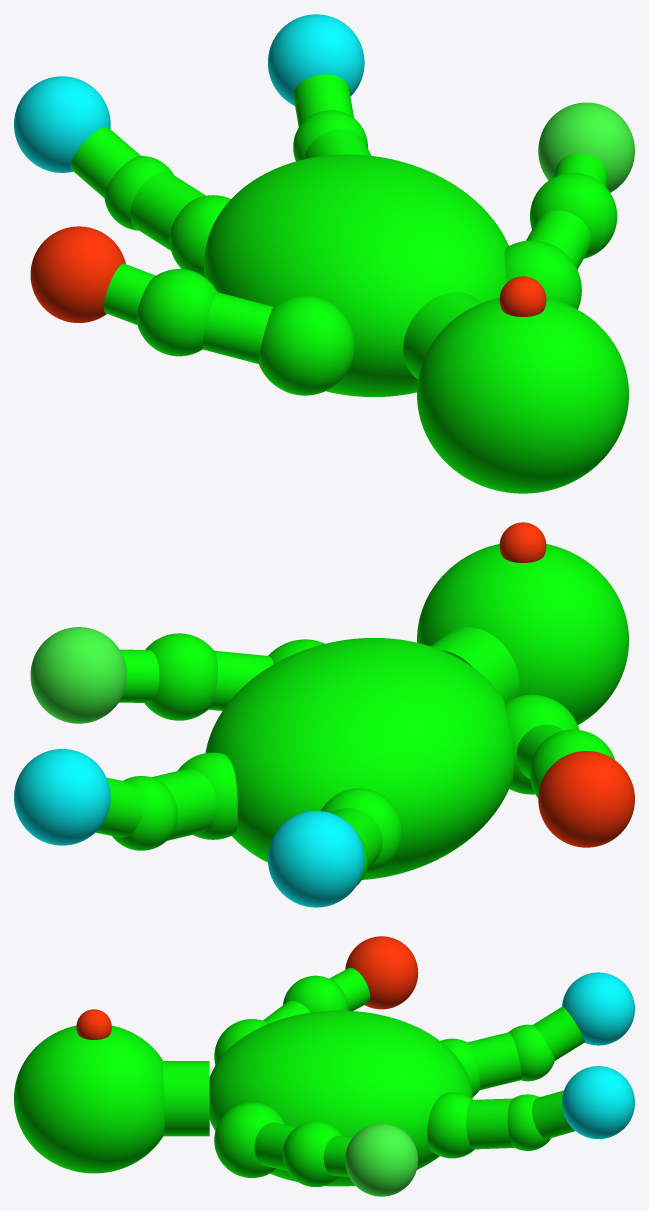
Rendered from maennchen_linke_hand_rot.glb.
The picture shows the model from 3 angles, top to bottom: view 1: azimuth 30°, elevation 25°; view 2: azimuth 150°, elevation 25°; view 3: azimuth 270°, elevation 25°; orthographic projection. The views are drawn at different scales.
Parts seen in each view (by area): view 1: torso_round_green, head_round_green, left_shoulder, left_hand_red_sphere, left_foot_cyan_sphere, right_foot_cyan_sphere, right_hand_green_sphere, left_elbow, right_elbow, left_upper_arm, right_shoulder, left_thigh (+11 smaller); view 2: torso_round_green, head_round_green, right_foot_cyan_sphere, left_hand_red_sphere, left_foot_cyan_sphere, right_hand_green_sphere, right_elbow, neck_green, left_shoulder, right_thigh, right_knee, right_hip (+9 smaller); view 3: torso_round_green, head_round_green, right_hand_green_sphere, right_foot_cyan_sphere, left_foot_cyan_sphere, left_hand_red_sphere, neck_green, right_shoulder, right_elbow, right_hip, left_thigh, right_thigh (+12 smaller).
Boxes of the visible parts, box(x1,y1,x2,y2) form: torso_round_green: box(204, 154, 508, 396); head_round_green: box(417, 298, 628, 493); left_shoulder: box(258, 296, 354, 395); left_hand_red_sphere: box(30, 226, 125, 322); left_foot_cyan_sphere: box(14, 76, 110, 172); right_foot_cyan_sphere: box(268, 14, 364, 105); right_hand_green_sphere: box(538, 102, 634, 192); left_elbow: box(136, 269, 217, 356); right_elbow: box(530, 173, 617, 258); left_upper_arm: box(202, 292, 273, 363); right_shoulder: box(504, 240, 581, 309); left_thigh: box(130, 171, 205, 250); torso_round_green: box(205, 638, 513, 879); head_round_green: box(417, 544, 628, 724); right_foot_cyan_sphere: box(14, 749, 110, 845); left_hand_red_sphere: box(538, 751, 634, 847); left_foot_cyan_sphere: box(268, 811, 364, 907); right_hand_green_sphere: box(30, 627, 126, 723); right_elbow: box(144, 633, 217, 720); neck_green: box(431, 627, 519, 702); left_shoulder: box(504, 694, 579, 794); right_thigh: box(152, 768, 216, 840); right_knee: box(112, 776, 177, 850); right_hip: box(177, 752, 237, 839); torso_round_green: box(209, 1010, 472, 1186); head_round_green: box(14, 1025, 164, 1173); right_hand_green_sphere: box(345, 1123, 418, 1196); right_foot_cyan_sphere: box(562, 1066, 634, 1138); left_foot_cyan_sphere: box(562, 972, 634, 1045); left_hand_red_sphere: box(345, 936, 418, 1009); neck_green: box(163, 1061, 209, 1136); right_shoulder: box(214, 1102, 284, 1177); right_elbow: box(282, 1121, 343, 1186); right_hip: box(427, 1092, 474, 1158); left_thigh: box(468, 1032, 521, 1090); right_thigh: box(466, 1098, 514, 1149).
Bounding box in the file's own units: 2.19 × 0.7556 × 2.63.
